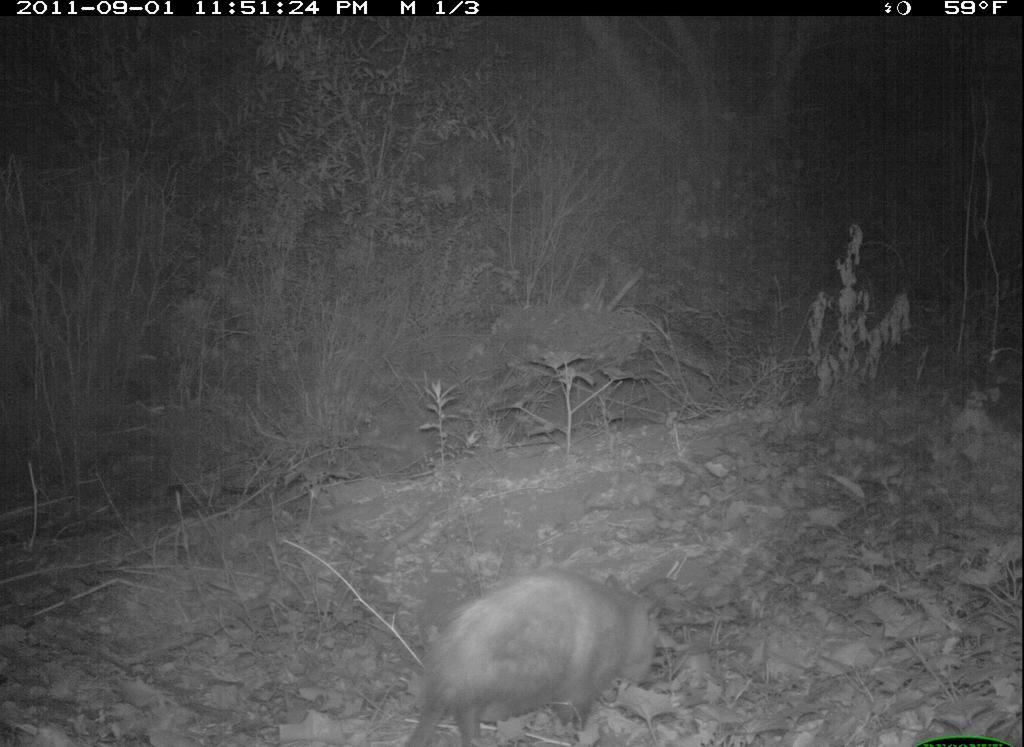opossum: (373, 562, 713, 747)
